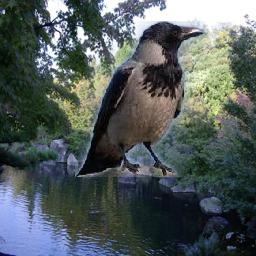Crow: (75, 21, 205, 177)
